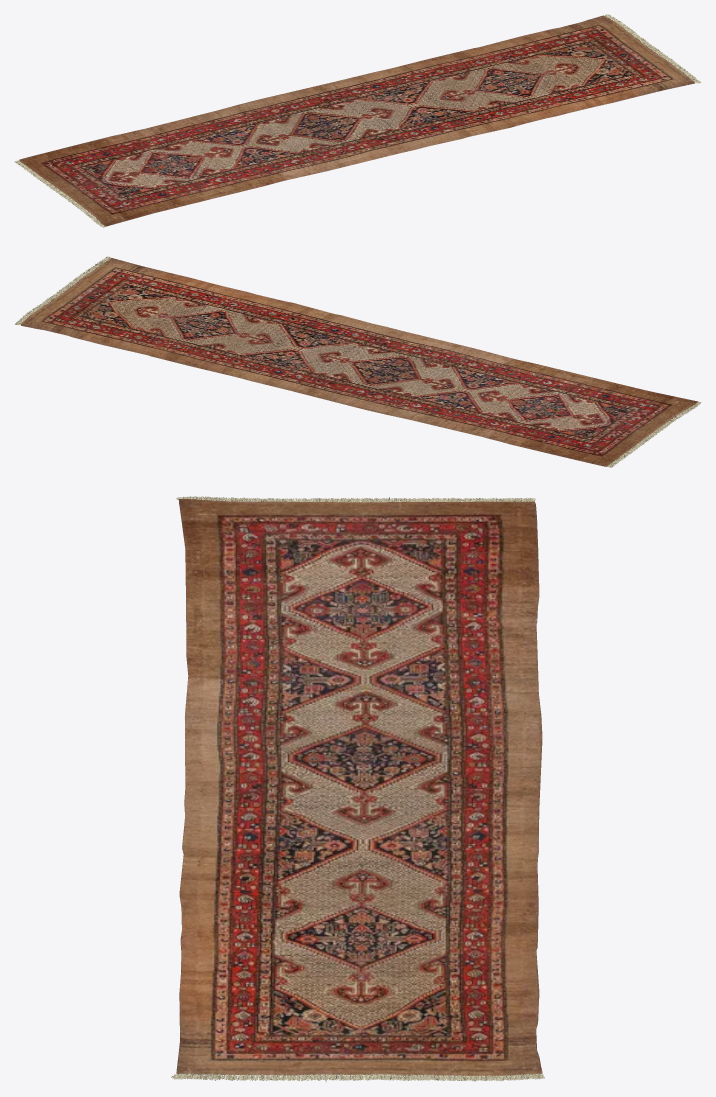
File: carpet-runner.glb
3 renders of one model, top to bottom at view 1: azimuth 30°, elevation 25°; view 2: azimuth 150°, elevation 25°; view 3: azimuth 270°, elevation 25°, orthographic. The views are drawn at different scales.
Parts seen in each view (by area): view 1: Object_0, Object_1; view 2: Object_0, Object_1; view 3: Object_0, Object_1.
Boxes of the visible parts, <box> form: Object_0: <box>19,15,694,226</box>; Object_1: <box>14,14,701,227</box>; Object_0: <box>20,258,698,466</box>; Object_1: <box>14,256,701,467</box>; Object_0: <box>176,499,542,1076</box>; Object_1: <box>171,496,544,1082</box>.
Size of the model in its own units: 2.4 by 0.0111 by 0.6491.
Materials: 2 (1 with a texture image).
